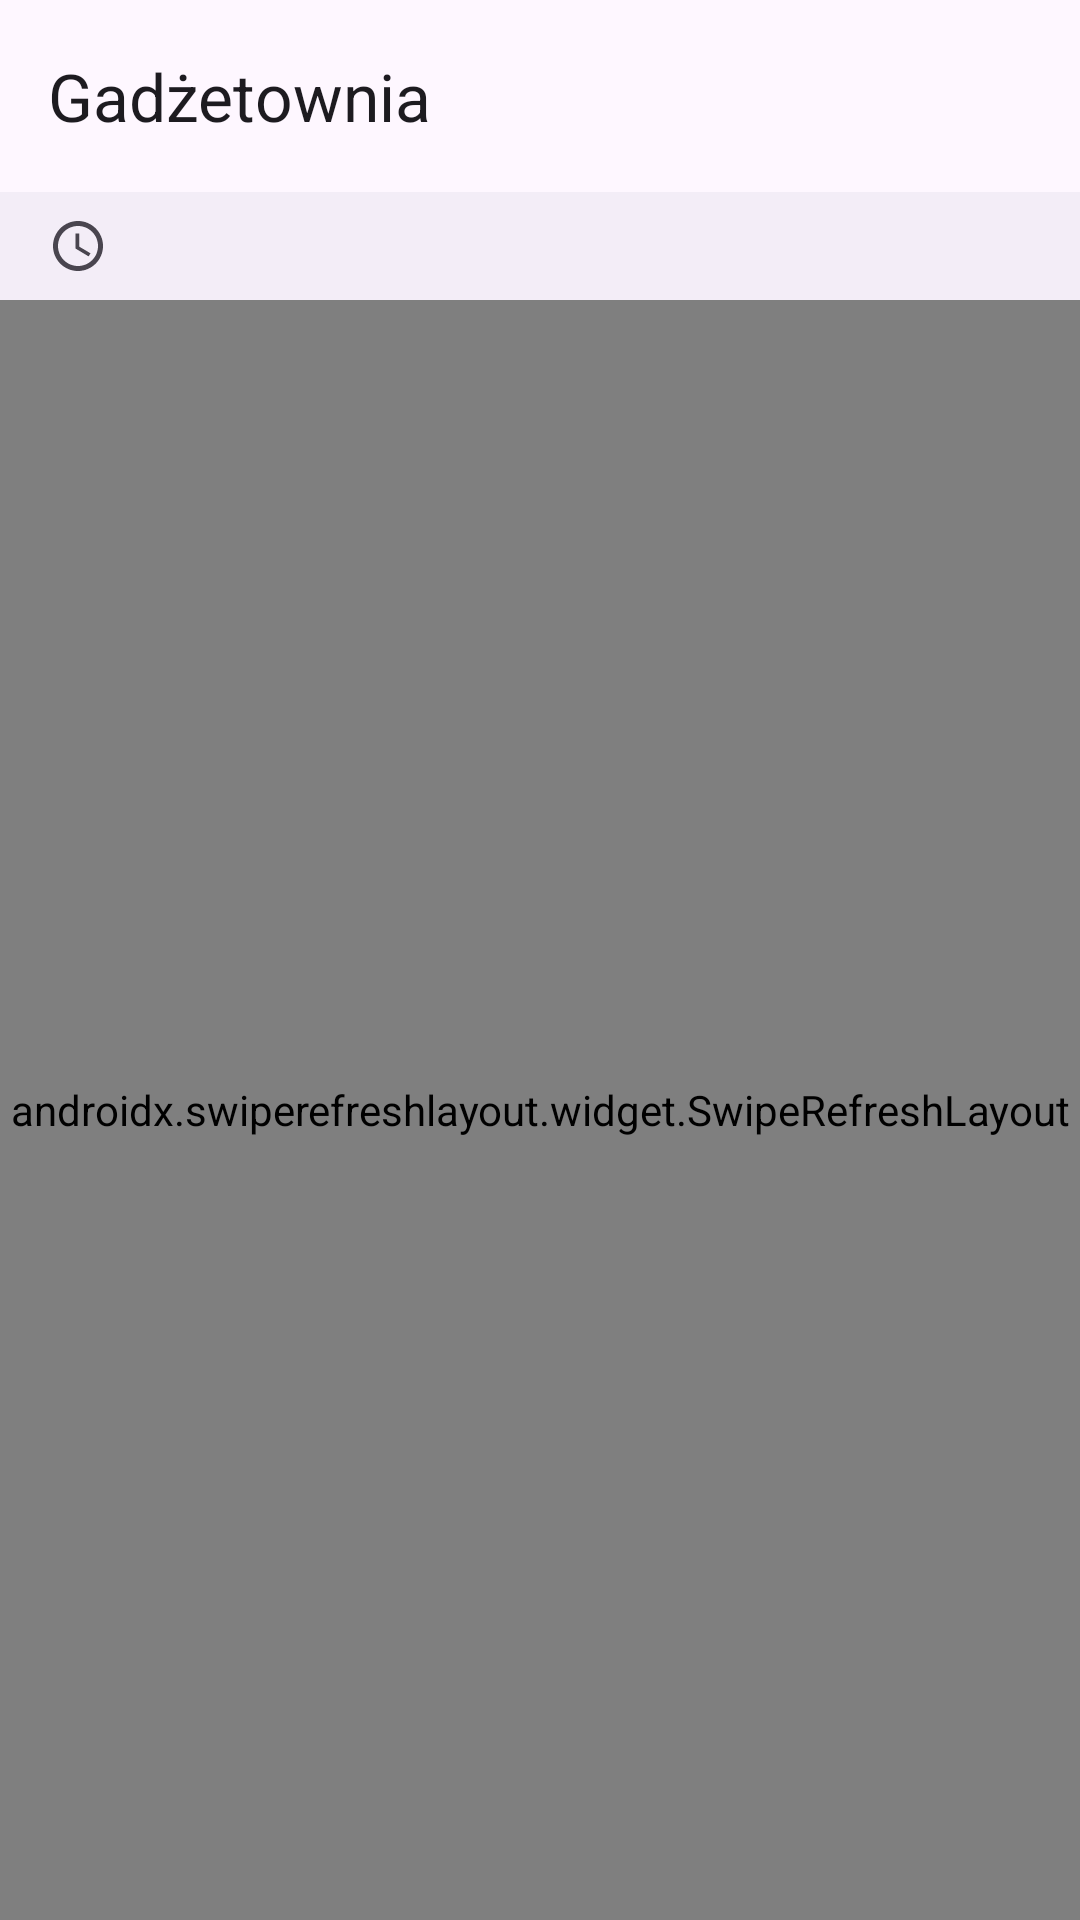

Icon click points for this 1080x1920 phone screenshot, format (x=x, y=y):
schedule: (x=78, y=246)
